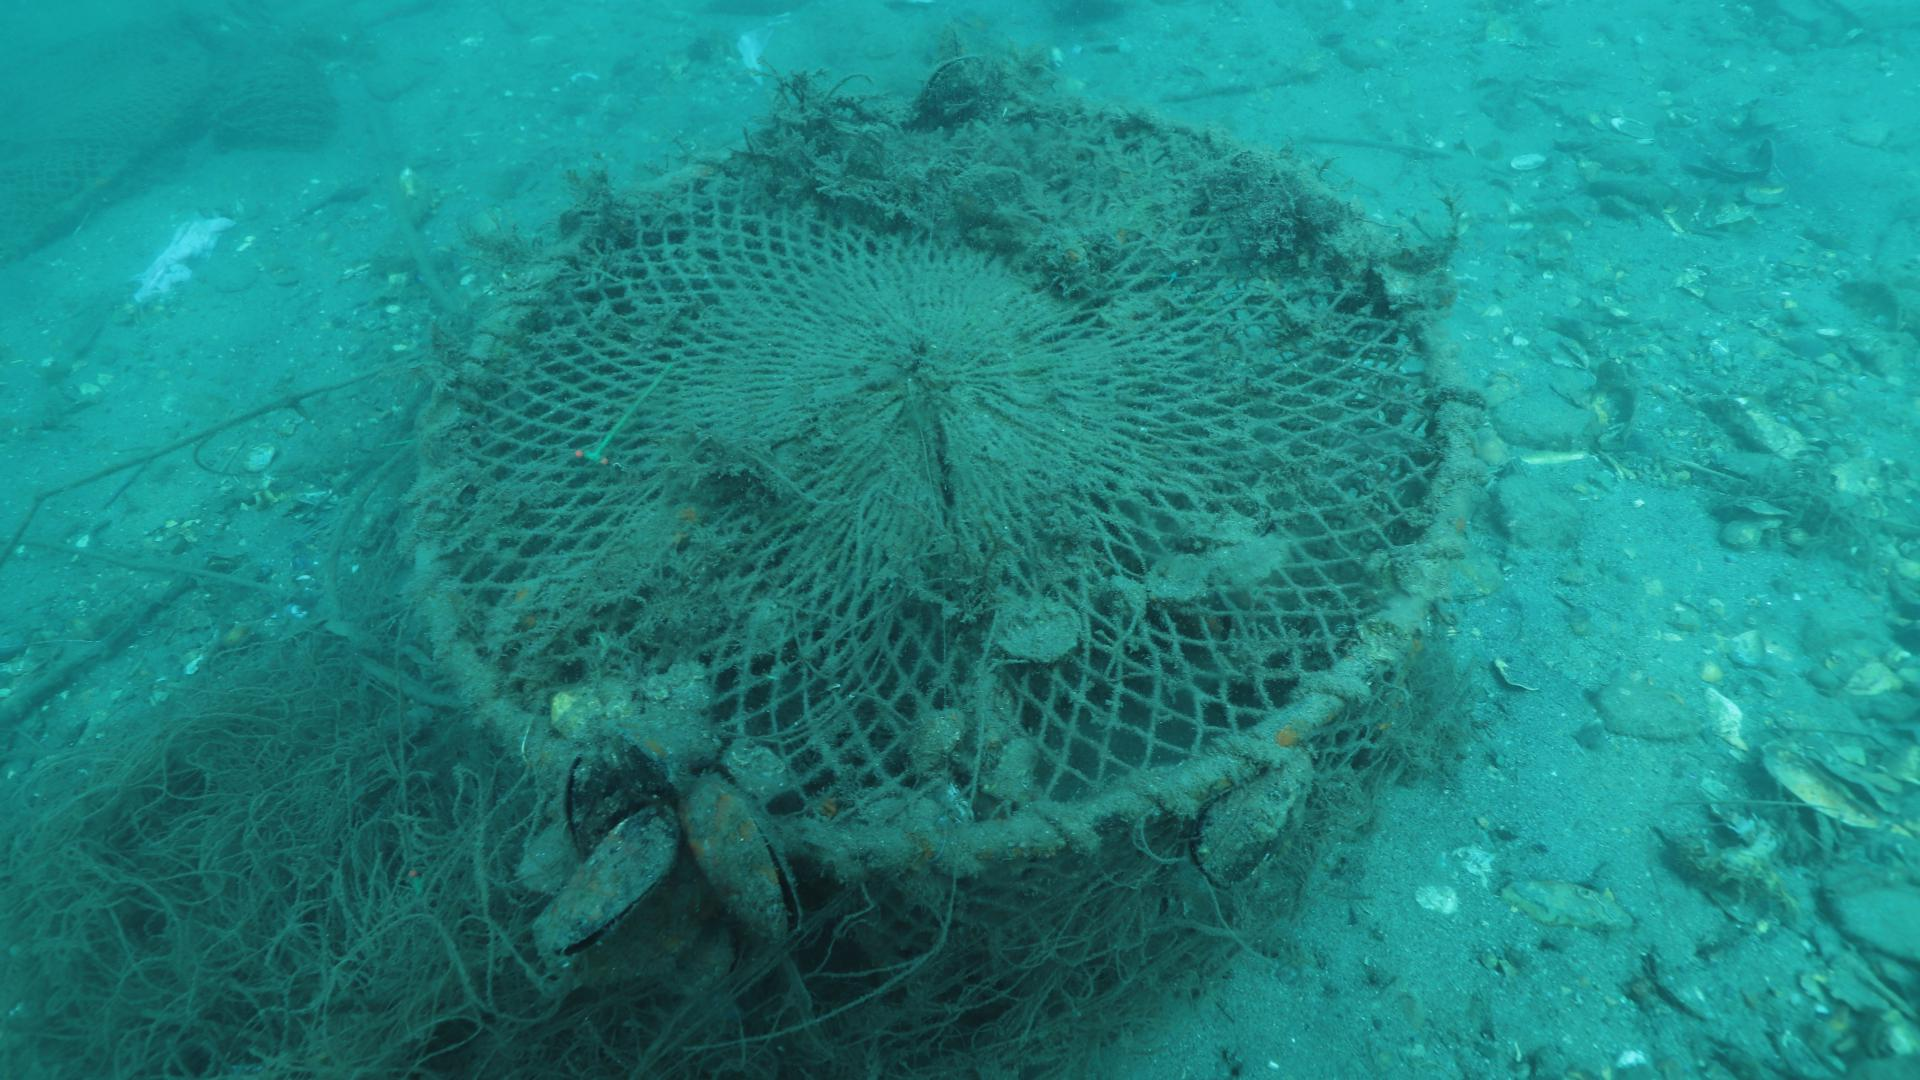circular fish trap: (407, 94, 1478, 949)
